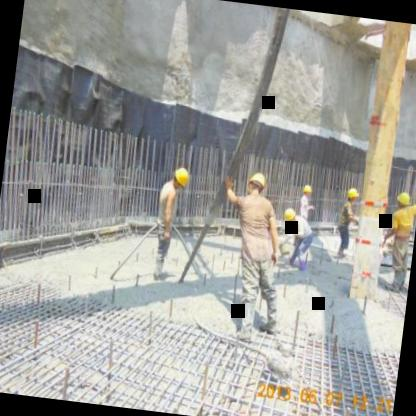helmet: (168, 163, 192, 193), (245, 170, 270, 198), (392, 188, 414, 212), (282, 204, 300, 226), (344, 183, 361, 206), (299, 184, 314, 200)
